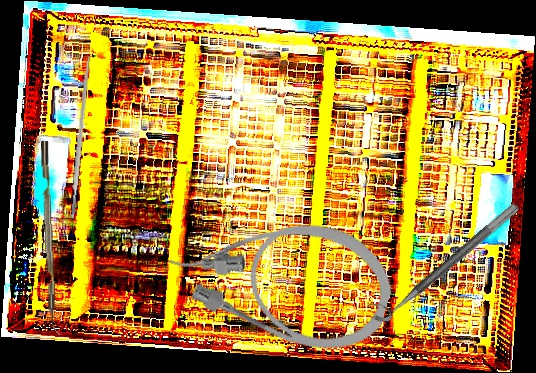Cannula: (157, 185, 404, 366)
Chopper: (40, 140, 65, 336)
Fixation Ring: (362, 190, 522, 329)
Scalpel Handle: (67, 55, 93, 220)
